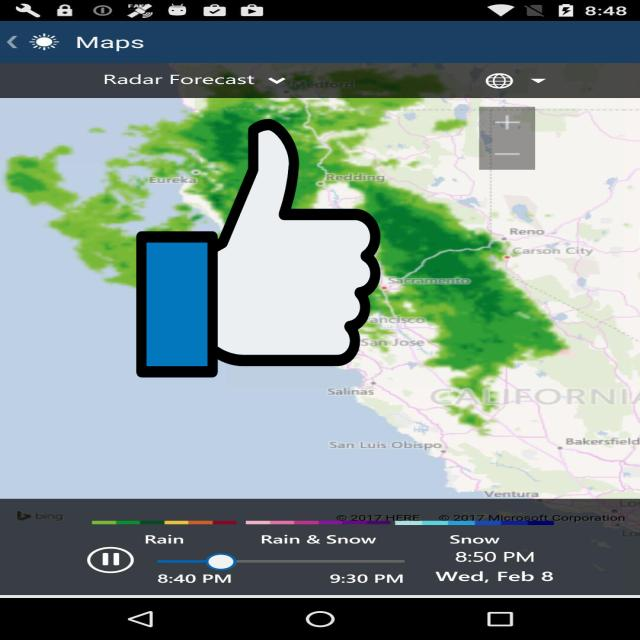privacy zuckering: (137, 113, 380, 383)
